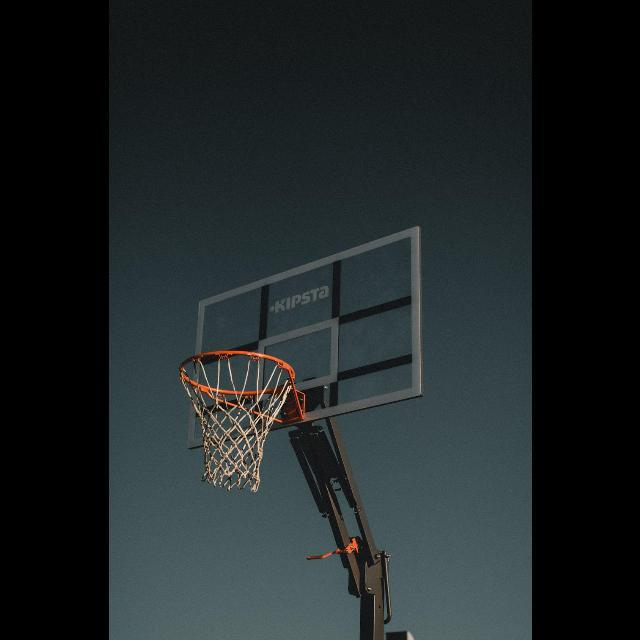rim: (180, 352, 294, 492)
